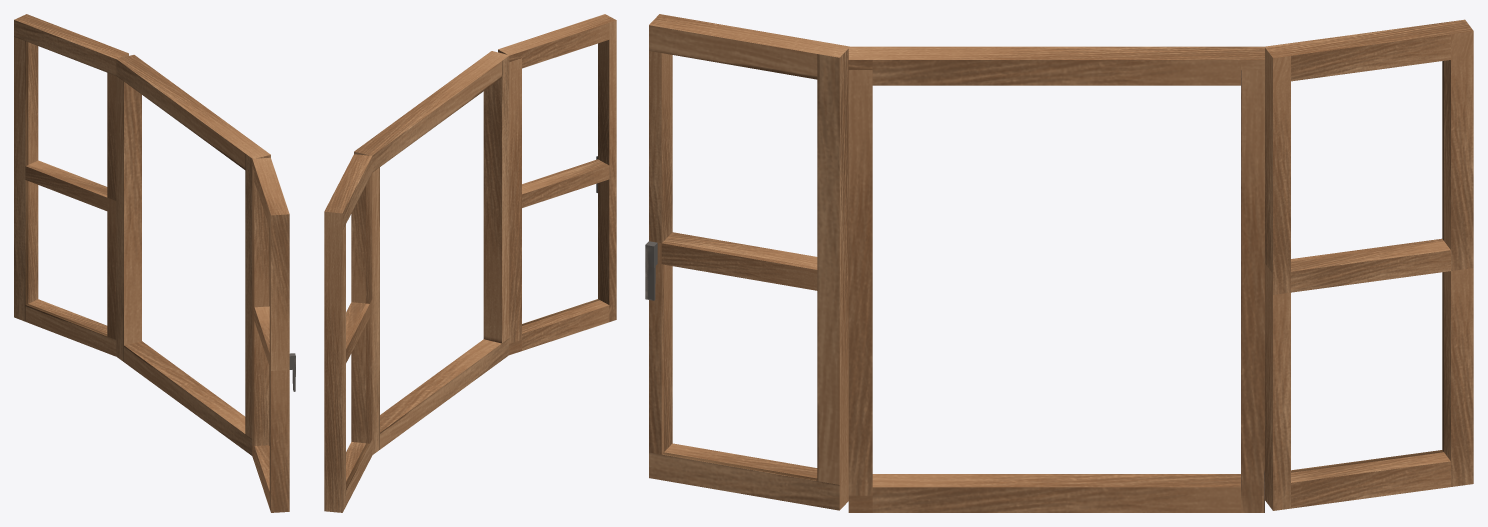
The model's file is Window_Open.FBX.
3 renders of one model, left to right at view 1: azimuth 30°, elevation 25°; view 2: azimuth 150°, elevation 25°; view 3: azimuth 270°, elevation 25°, orthographic. The views are drawn at different scales.
Parts seen in each view (by area): view 1: Window_Center, Window_left, Window_right; view 2: Window_Center, Window_right, Window_left; view 3: Window_Center, Window_left, Window_right.
Part boxes in pixels (bbox=[...]): Window_Center: bbox=[116, 55, 270, 455]; Window_left: bbox=[14, 14, 128, 356]; Window_right: bbox=[252, 157, 295, 512]; Window_Center: bbox=[354, 51, 509, 454]; Window_right: bbox=[498, 14, 616, 354]; Window_left: bbox=[324, 154, 372, 512]; Window_Center: bbox=[848, 46, 1264, 512]; Window_left: bbox=[1265, 19, 1473, 510]; Window_right: bbox=[645, 14, 849, 510].
Bounding box in the file's own units: 13.1 × 60 × 99.49.
